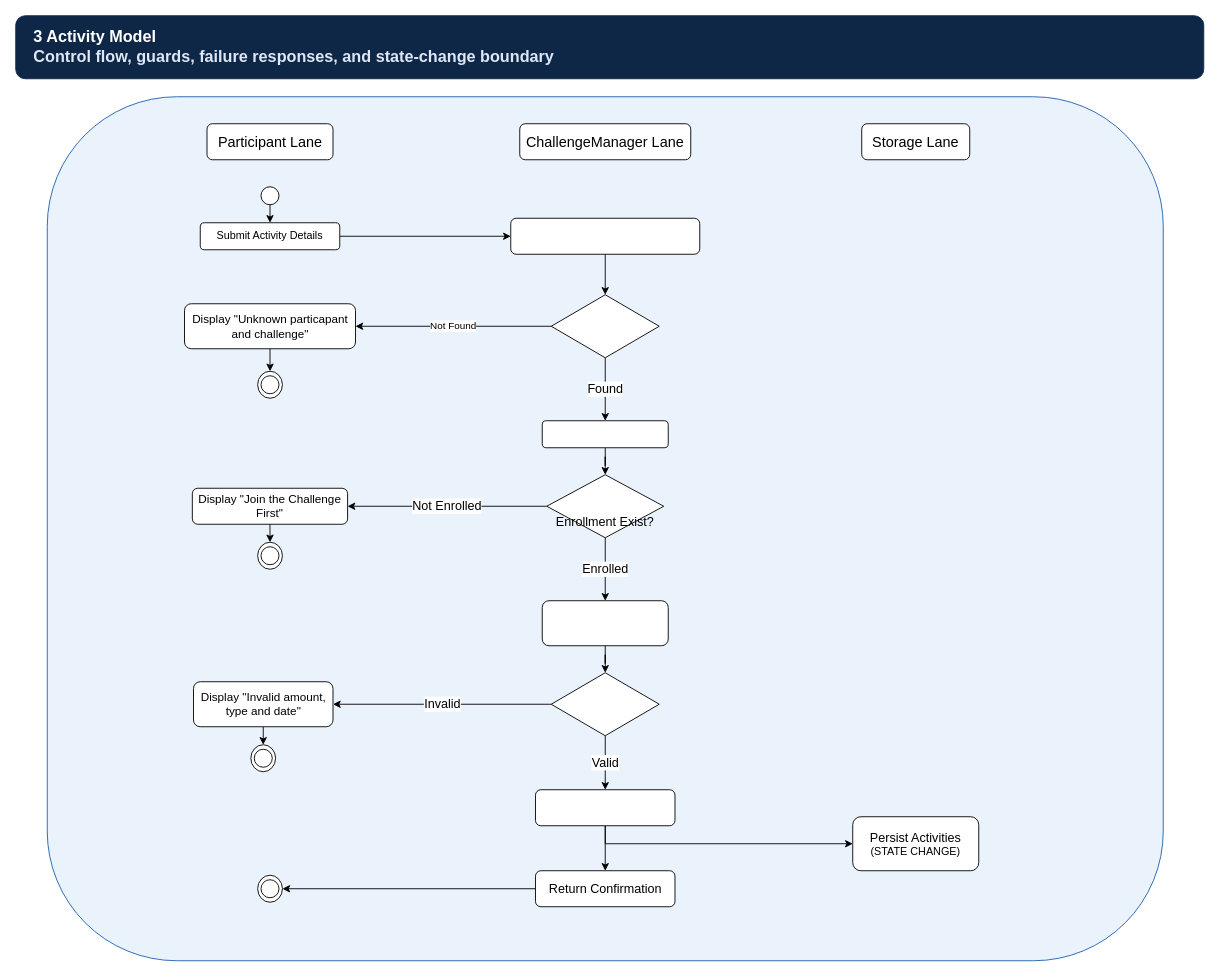
Image size: 1220x977. Some labels were removed from this diagram. The shapes that lost their labels are listed below. From the top down, each one's centre as x and y in pixels, then its label:
the point at 605,235: Locate Participant and Challenge
the point at 604,326: Identity Found?
the point at 604,434: Confirm Enrollment
the point at 604,623: Validate Amount, Type and Date
the point at 604,704: Values Valid?
the point at 605,807: Create ActivtyRecord
